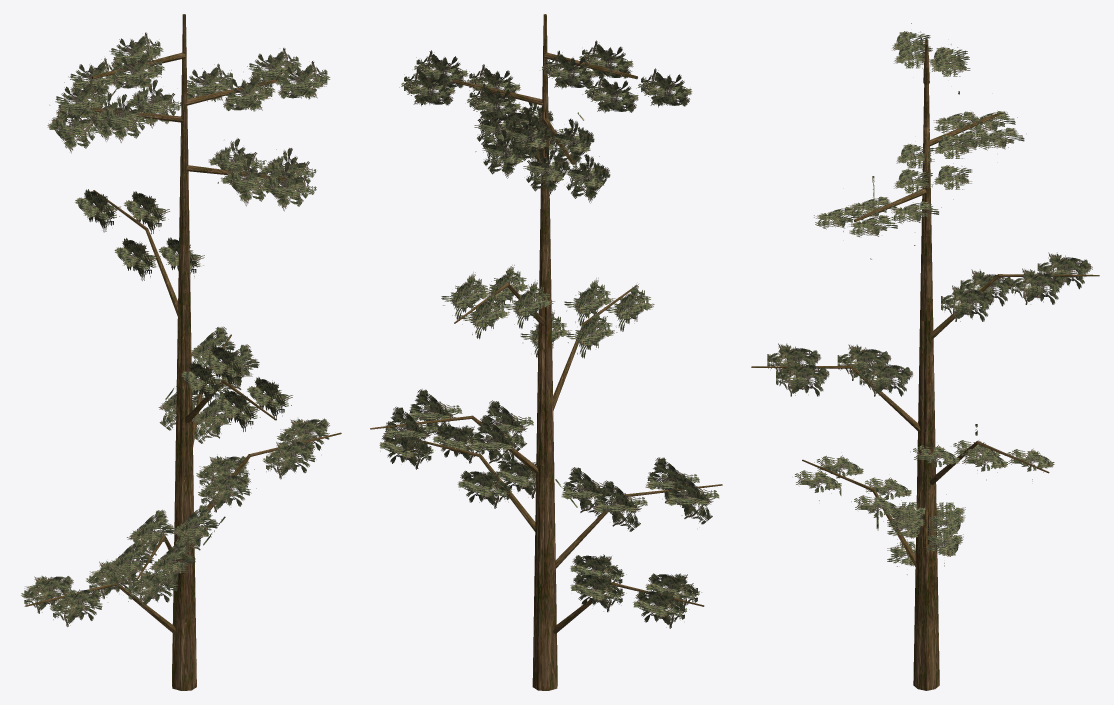
The model's file is tree.obj.
3 views of the same model, side by side, from view 1: azimuth 30°, elevation 25°; view 2: azimuth 150°, elevation 25°; view 3: azimuth 270°, elevation 25° (orthographic). The views are drawn at different scales.
Visible parts, largest first — view 1: entity0_brush2, entity0_brush3, entity0_brush1, entity0_brush206, entity0_brush209, entity0_brush214, entity0_brush6, entity0_brush197, entity0_brush196, entity0_brush227, entity0_brush218, entity0_brush217 (+45 smaller); view 2: entity0_brush0, entity0_brush5, entity0_brush1, entity0_brush4, entity0_brush194, entity0_brush196, entity0_brush211, entity0_brush193, entity0_brush221, entity0_brush231, entity0_brush229, entity0_brush222 (+30 smaller); view 3: entity0_brush7, entity0_brush4, entity0_brush6, entity0_brush198, entity0_brush201, entity0_brush204, entity0_brush202, entity0_brush3, entity0_brush5, entity0_brush205, entity0_brush199, entity0_brush200 (+24 smaller).
Boxes of the visible parts, bbox=[...] form: entity0_brush2: bbox=[176, 305, 185, 690]; entity0_brush3: bbox=[184, 304, 193, 690]; entity0_brush1: bbox=[172, 303, 181, 689]; entity0_brush206: bbox=[201, 474, 251, 512]; entity0_brush209: bbox=[266, 441, 315, 479]; entity0_brush214: bbox=[53, 589, 102, 626]; entity0_brush6: bbox=[188, 303, 196, 688]; entity0_brush197: bbox=[149, 540, 194, 591]; entity0_brush196: bbox=[106, 539, 152, 590]; entity0_brush227: bbox=[101, 88, 144, 142]; entity0_brush218: bbox=[217, 150, 269, 206]; entity0_brush217: bbox=[264, 162, 307, 211]; entity0_brush0: bbox=[543, 306, 552, 690]; entity0_brush5: bbox=[535, 306, 544, 690]; entity0_brush1: bbox=[548, 304, 557, 689]; entity0_brush4: bbox=[532, 308, 540, 688]; entity0_brush194: bbox=[472, 409, 518, 468]; entity0_brush196: bbox=[667, 473, 713, 524]; entity0_brush211: bbox=[595, 480, 641, 531]; entity0_brush193: bbox=[385, 406, 431, 457]; entity0_brush221: bbox=[469, 83, 519, 122]; entity0_brush231: bbox=[641, 68, 689, 107]; entity0_brush229: bbox=[544, 50, 593, 88]; entity0_brush222: bbox=[404, 67, 453, 106]; entity0_brush7: bbox=[922, 321, 930, 690]; entity0_brush4: bbox=[928, 321, 937, 689]; entity0_brush6: bbox=[915, 321, 924, 689]; entity0_brush198: bbox=[859, 360, 912, 396]; entity0_brush201: bbox=[776, 360, 829, 396]; entity0_brush204: bbox=[1011, 268, 1064, 304]; entity0_brush202: bbox=[941, 285, 994, 321]; entity0_brush3: bbox=[913, 319, 922, 686]; entity0_brush5: bbox=[931, 319, 939, 686]; entity0_brush205: bbox=[1037, 252, 1091, 289]; entity0_brush199: bbox=[837, 344, 891, 380]; entity0_brush200: bbox=[767, 343, 820, 379].
Size of the model in its own units: 1268 by 2576 by 1268.
2 materials, 2 textured.
